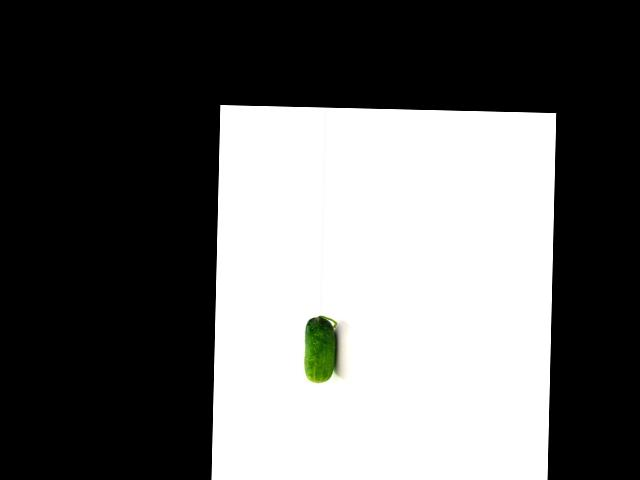cucumber: (304, 316, 337, 384)
